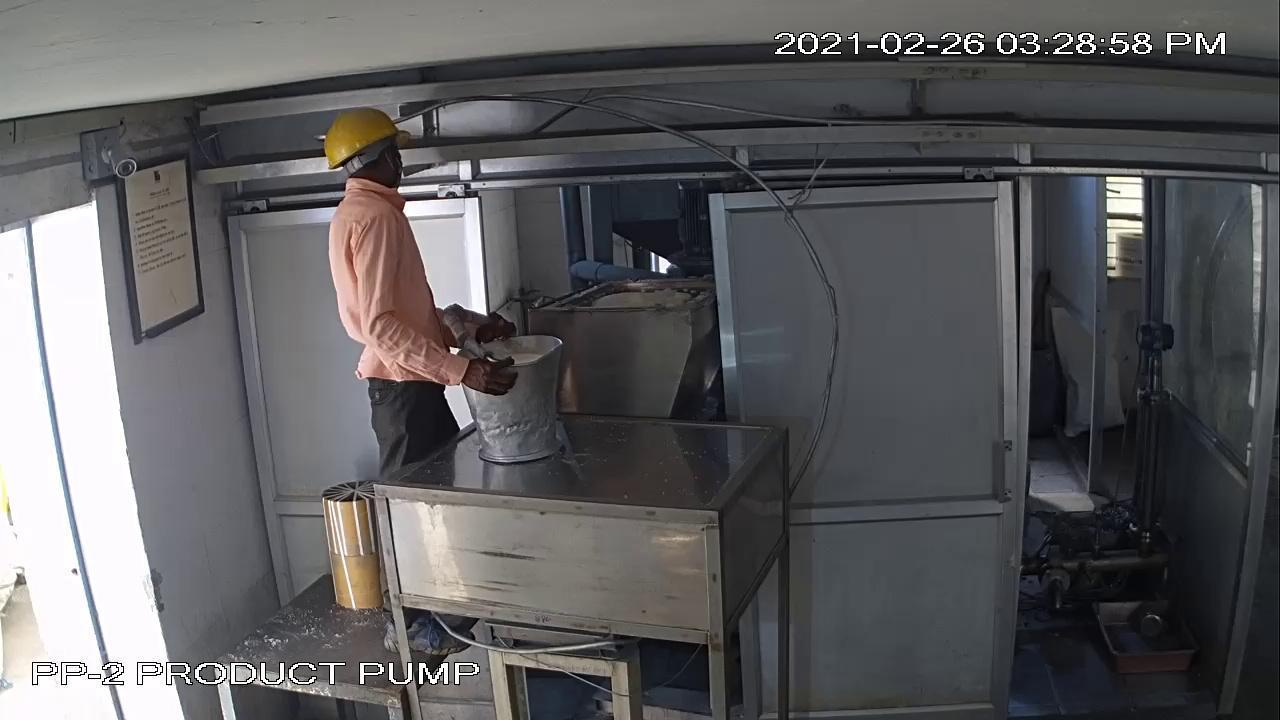helmet: (322, 104, 416, 174)
